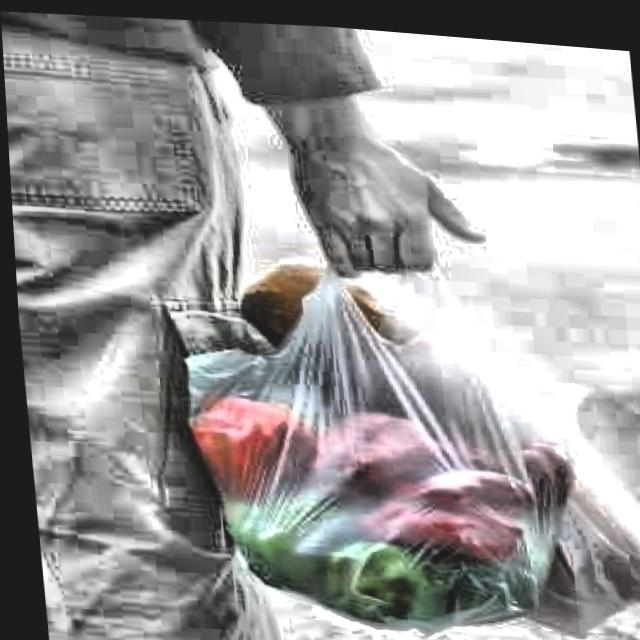Plastic: (156, 232, 640, 640)
